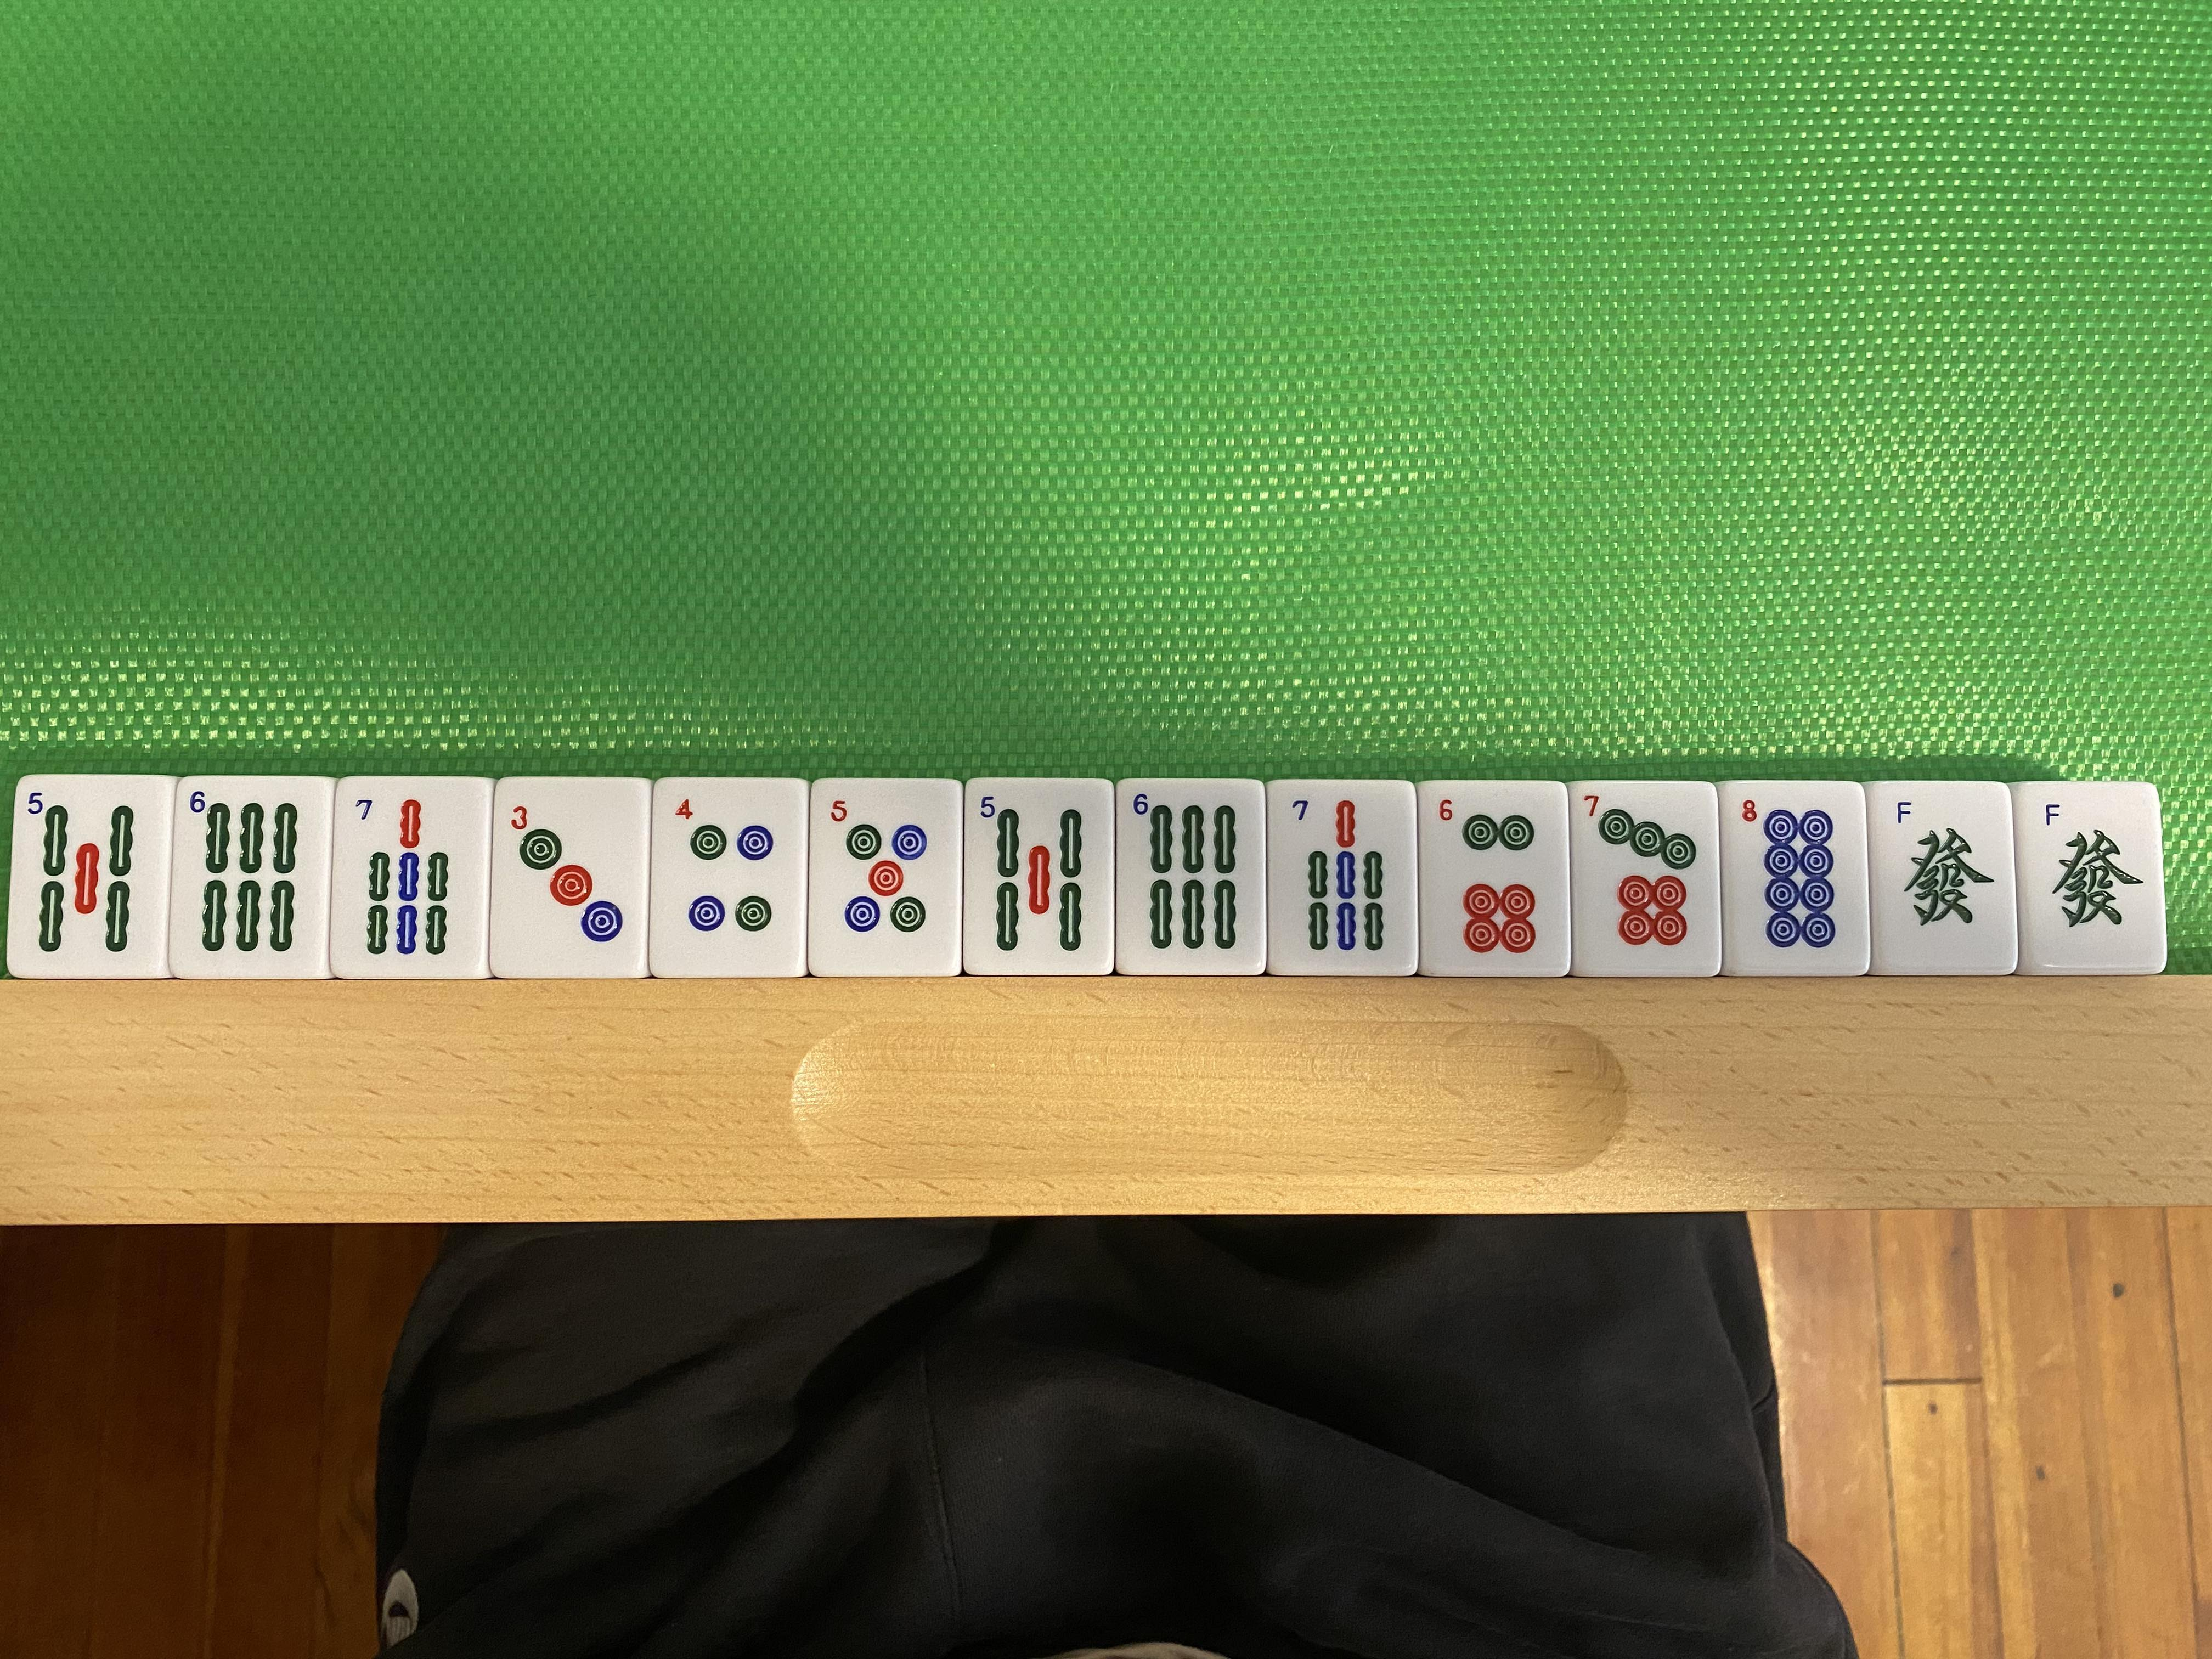bamboo-five: (968, 786, 1108, 969), (21, 782, 153, 974)
bamboo-seven: (336, 793, 475, 971), (1271, 789, 1407, 967)
bamboo-six: (179, 786, 319, 969), (1127, 788, 1256, 964)
circle-eight: (1731, 791, 1844, 958)
circle-five: (817, 789, 961, 965)
circle-four: (664, 788, 794, 965)
circle-seven: (1576, 784, 1709, 964)
circle-six: (1428, 795, 1559, 967)
circle-three: (496, 791, 641, 965)
honor-green_dragon: (2022, 789, 2158, 969), (1879, 793, 2001, 958)
